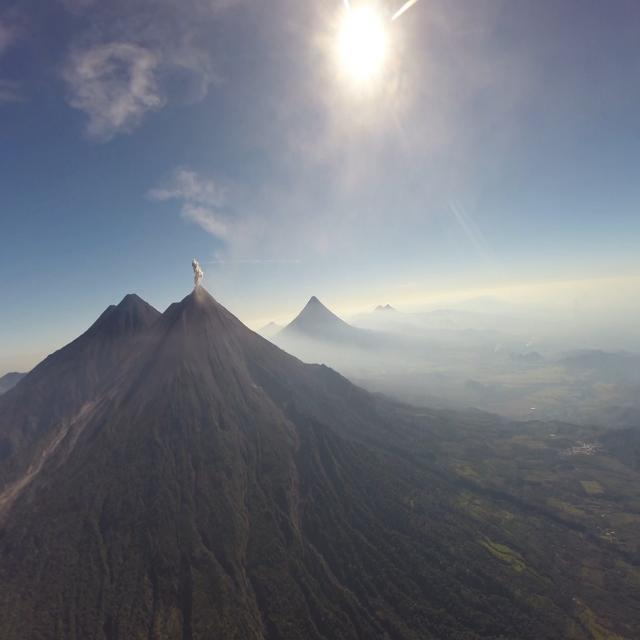Plume: (192, 257, 205, 290)
Summit: (179, 283, 221, 306)
